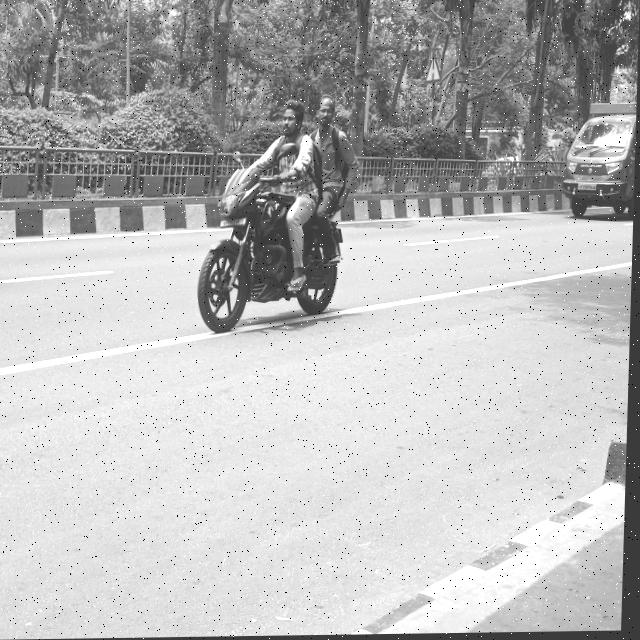bike: (171, 160, 367, 331)
car: (558, 110, 632, 220)
